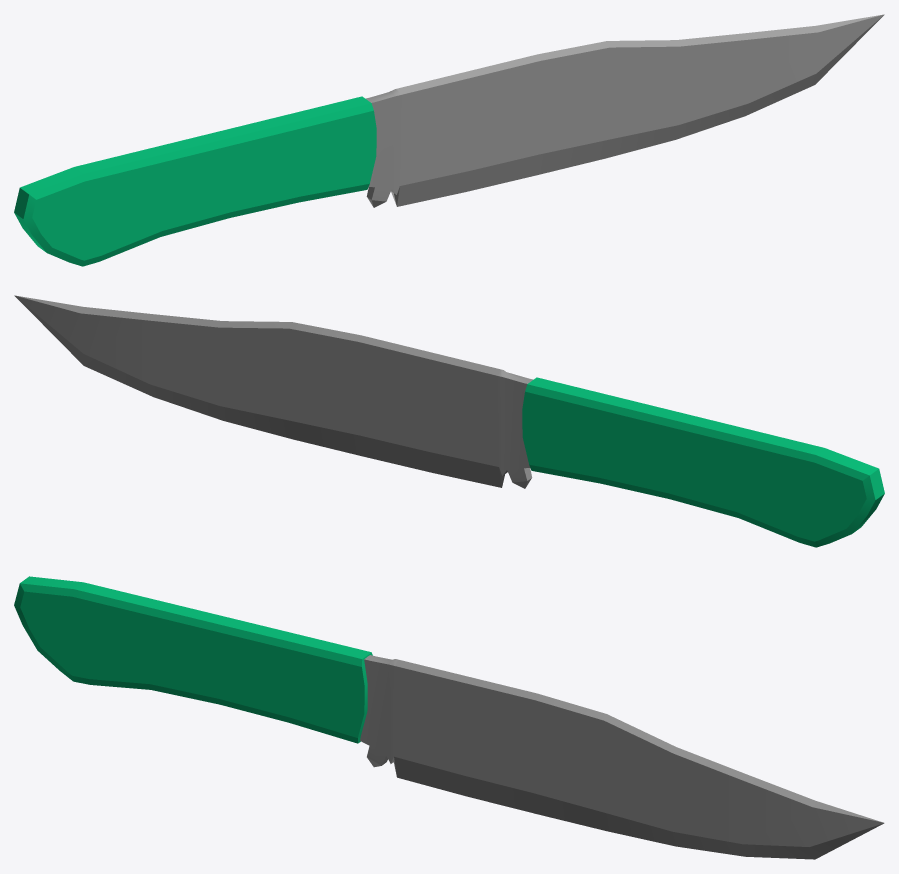
The model's file is Knife.fbx.
3 renders of one model, top to bottom at view 1: azimuth 30°, elevation 25°; view 2: azimuth 150°, elevation 25°; view 3: azimuth 330°, elevation 25°, orthographic.
Visible parts, largest first — view 1: Cube; view 2: Cube; view 3: Cube.
Boxes of the visible parts, x1,y1,x2,y2 form: Cube: (14, 14, 884, 266); Cube: (14, 295, 884, 547); Cube: (14, 576, 884, 859).
Size of the model in its own units: 487 by 64.93 by 11.7.
